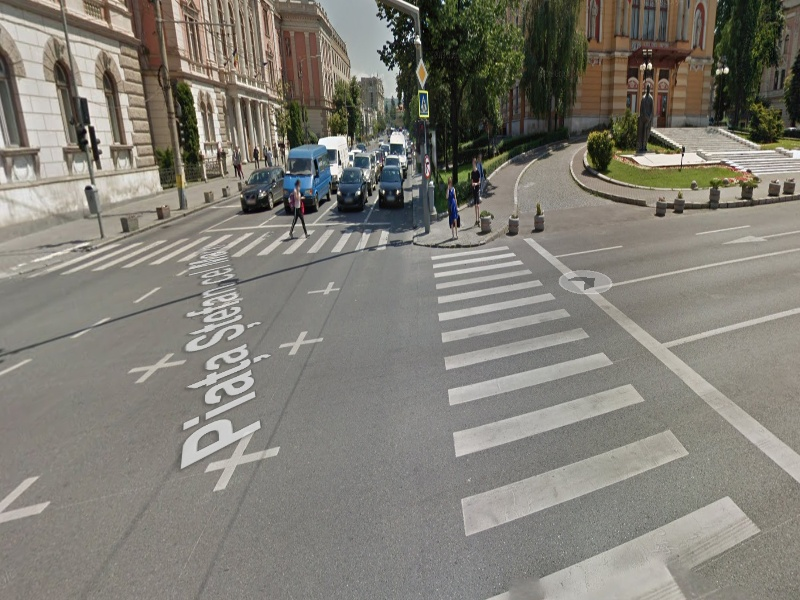crosswalk: (426, 243, 800, 598), (28, 222, 411, 280)
crosswalk_sign: (414, 88, 432, 120)
pedestrian: (287, 179, 314, 238), (443, 178, 464, 243)
semaphore: (73, 120, 90, 160), (88, 120, 102, 164), (176, 122, 187, 151)
